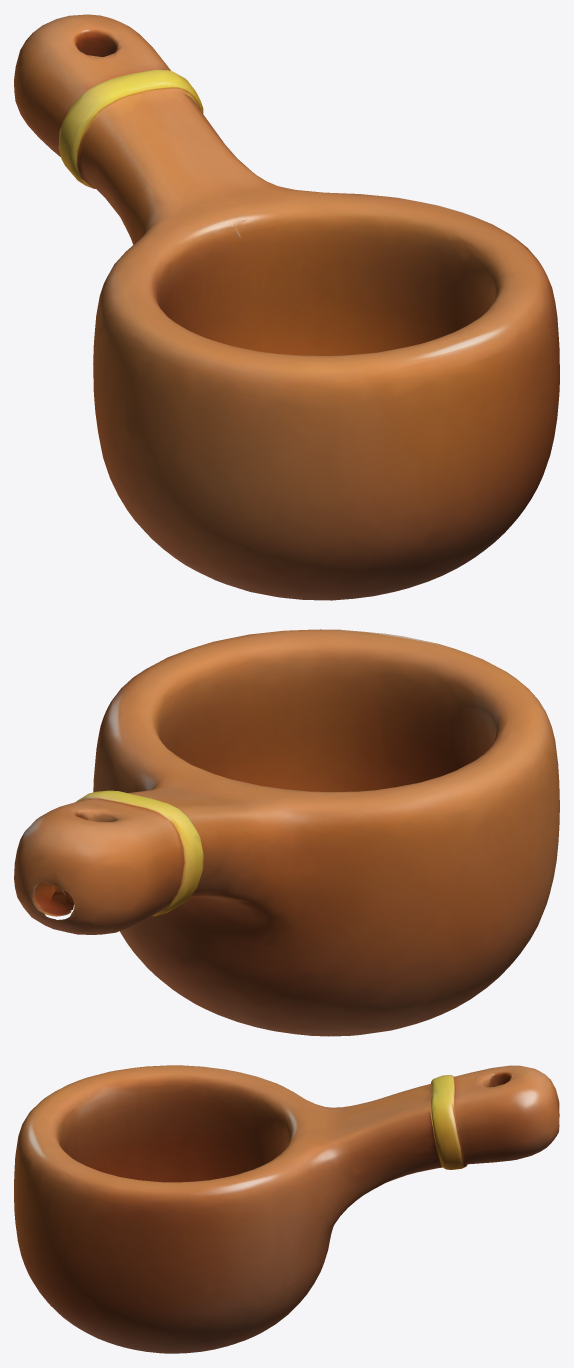
Rendered from cs-ladle.glb.
3 renders of one model, top to bottom at view 1: azimuth 30°, elevation 25°; view 2: azimuth 150°, elevation 25°; view 3: azimuth 270°, elevation 25°, orthographic. The views are drawn at different scales.
Visible parts, largest first — view 1: tripo_node_8de4e1d6-bea8-4794-90dc-9bb298eb782b; view 2: tripo_node_8de4e1d6-bea8-4794-90dc-9bb298eb782b; view 3: tripo_node_8de4e1d6-bea8-4794-90dc-9bb298eb782b.
Boxes of the visible parts, x1,y1,x2,y2 form: tripo_node_8de4e1d6-bea8-4794-90dc-9bb298eb782b: (14,14,559,600); tripo_node_8de4e1d6-bea8-4794-90dc-9bb298eb782b: (14,629,559,1036); tripo_node_8de4e1d6-bea8-4794-90dc-9bb298eb782b: (14,1065,559,1353).
Size of the model in its own units: 0.6007 by 0.51 by 1.
Materials: 1 (1 with a texture image).
